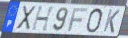9: (51, 6, 69, 32)
F: (67, 7, 89, 33)
H: (30, 6, 56, 33)
K: (102, 9, 121, 34)
O: (85, 7, 104, 34)
X: (15, 5, 37, 32)
